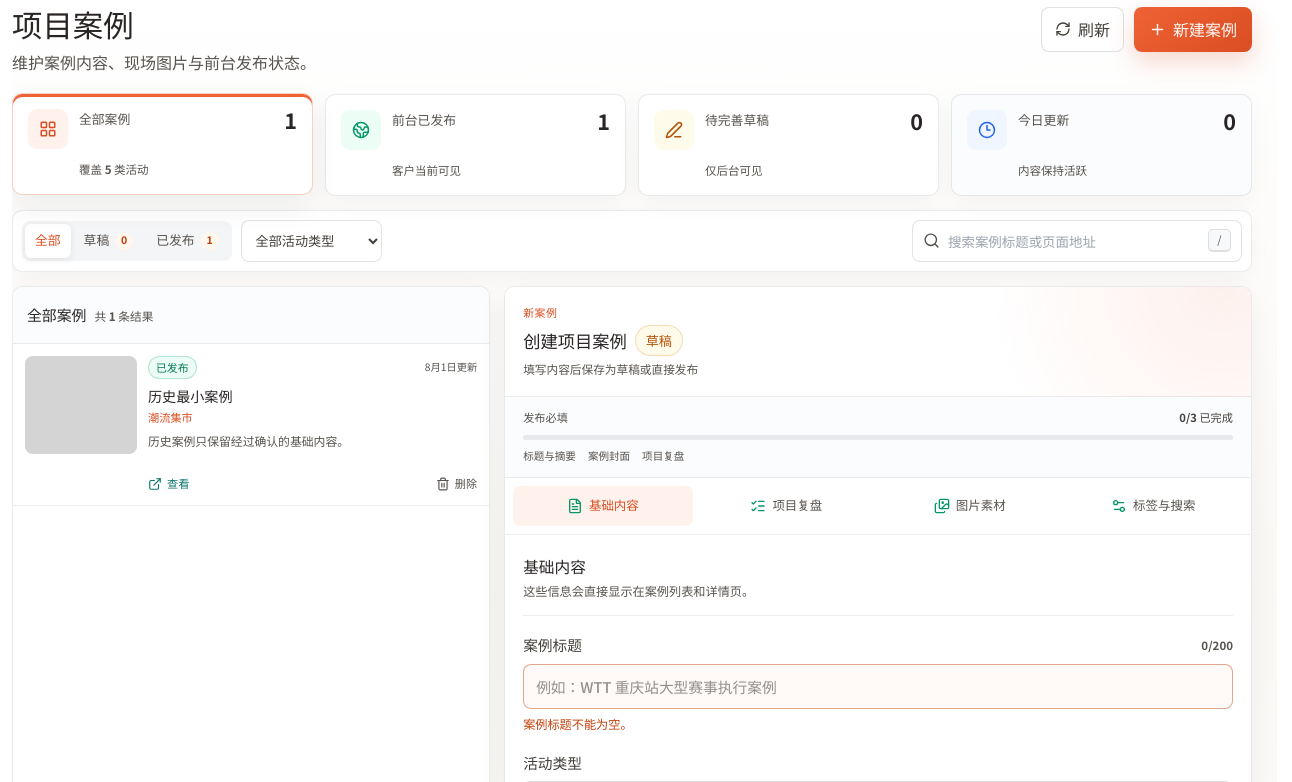
Test case: AdminCasesPage › saves basic changes to a published historical minimal case
The width and height of the screenshot is (1292, 782).
Click the button "已发布 8月1日更新 历史最小案例 潮流集市 历史案例只保留经过确认的基础内容。" at (81, 405), box [13,344,489,466]
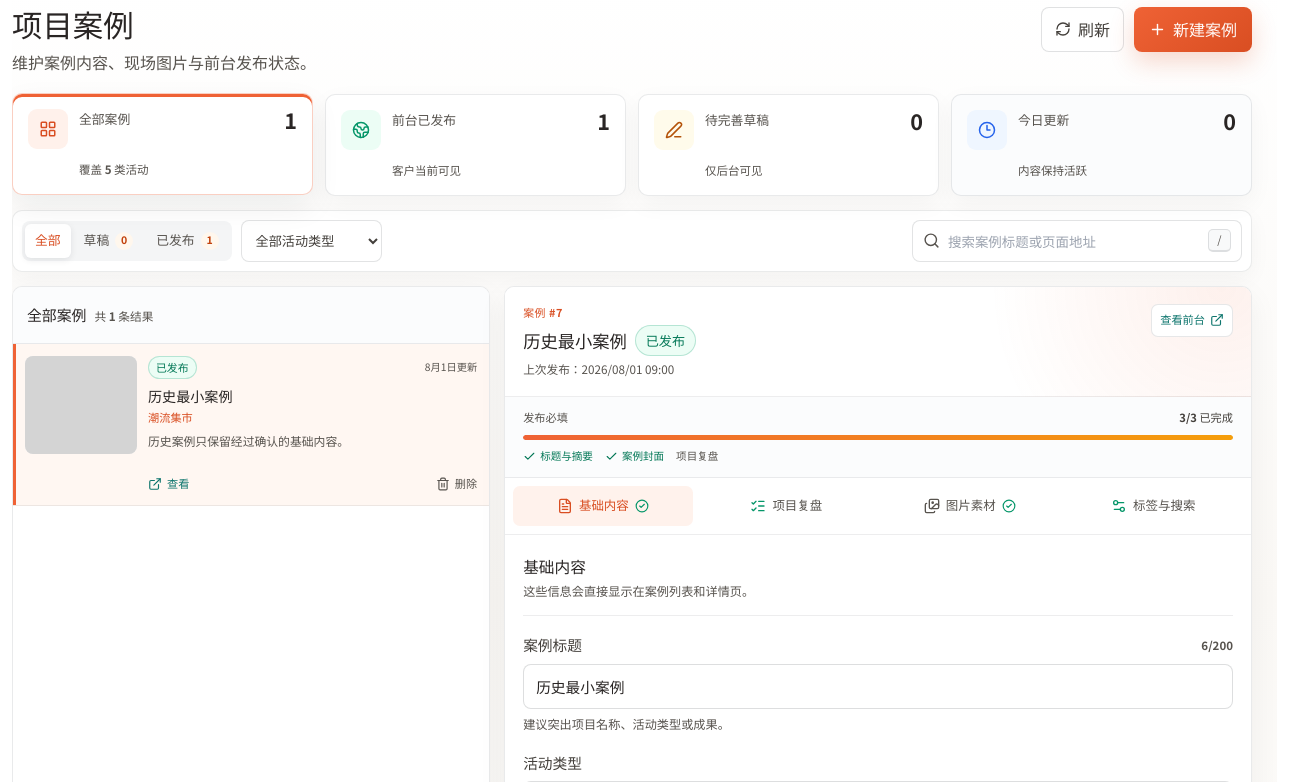
Replace the text in the field showing "历史最小案例" with "历史最小案例（已更新）" at (878, 686), box [523,664,1233,709]
(page scrolled)
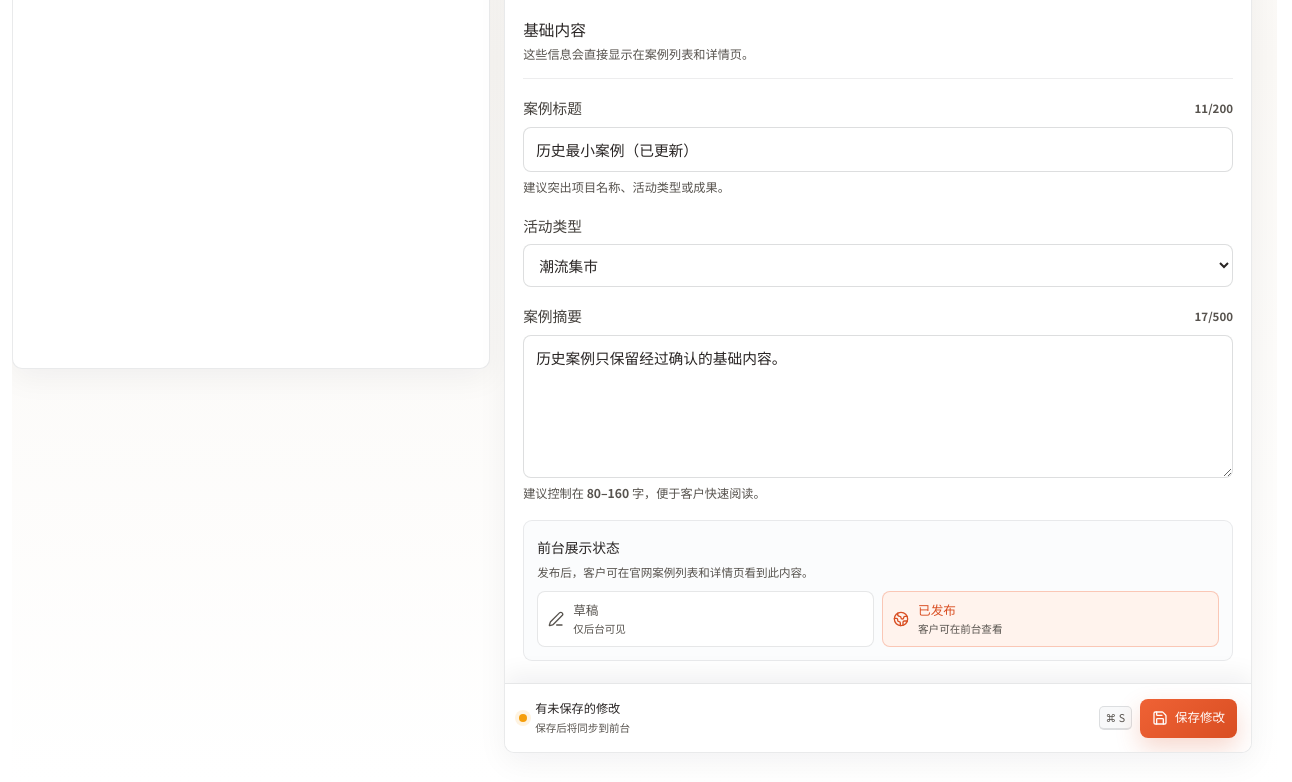
Click the button "保存修改" at (1189, 718), box [1140,698,1237,738]
(page scrolled)
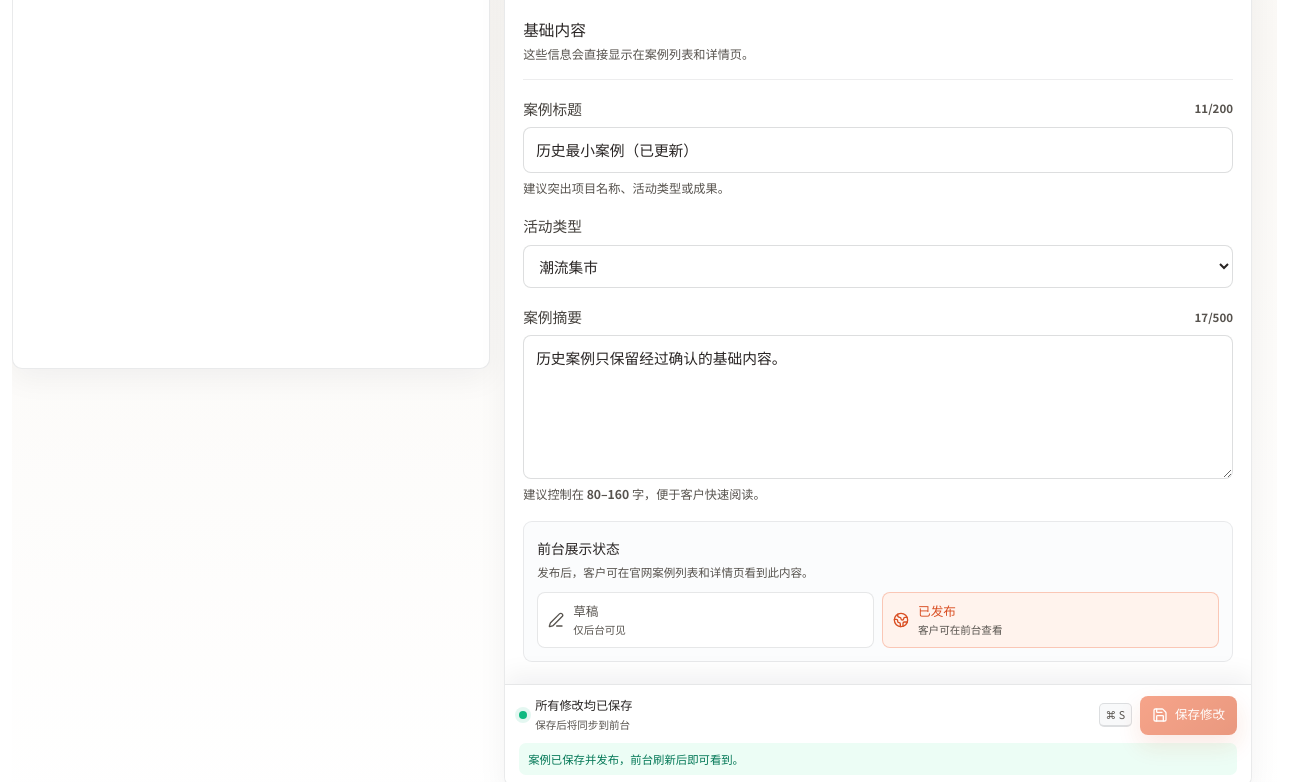
Check: the text "案例已保存并发布，前台刷新后即可看到。" is shown 2 times
